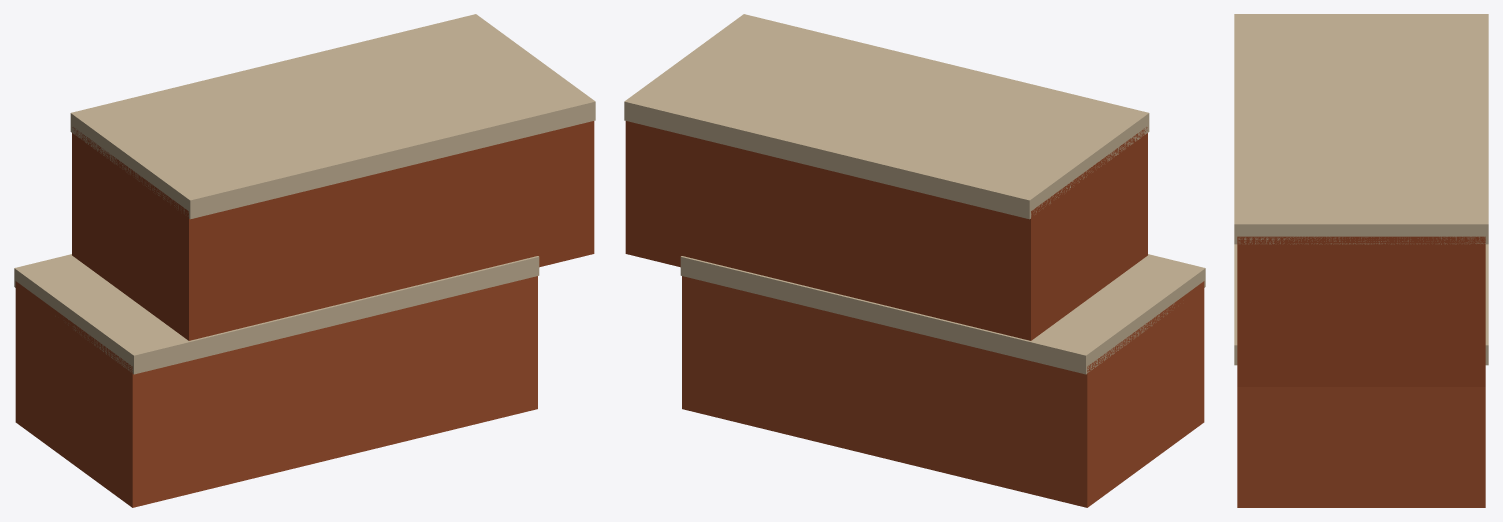
File: item_bricks.fbx
3 renders of one model, left to right at view 1: azimuth 30°, elevation 25°; view 2: azimuth 150°, elevation 25°; view 3: azimuth 270°, elevation 25°, orthographic. The views are drawn at different scales.
Visible parts, largest first — view 1: M__item_bricks; view 2: M__item_bricks; view 3: M__item_bricks.
Part boxes in pixels (x1,y1,x2,y2): M__item_bricks: (14,14,595,507); M__item_bricks: (624,14,1205,507); M__item_bricks: (1234,14,1488,507).
Size of the model in its own units: 0.205 by 0.125 by 0.092.
